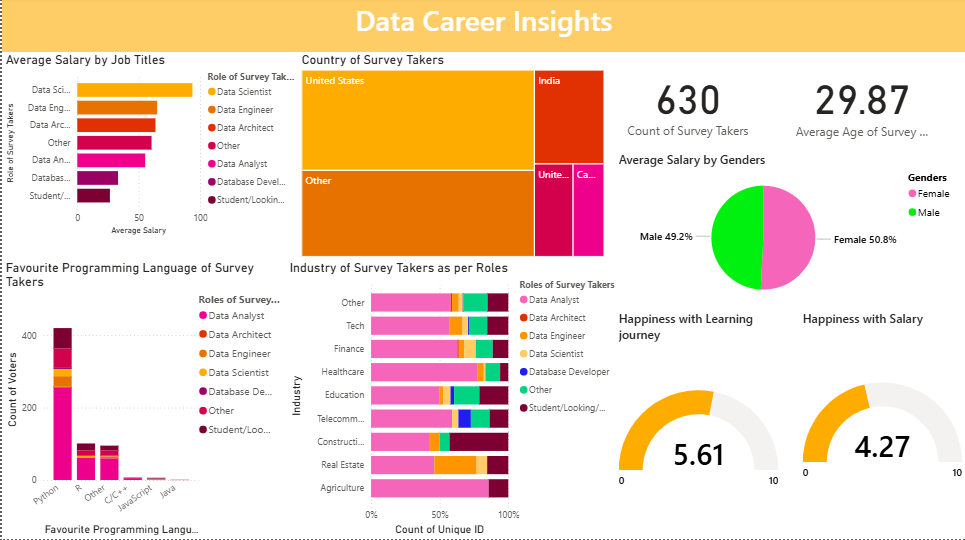

What the dashboard file says about the page in this screenshot:
{"tool":"powerbi","page":{"name":"Main Dashboard","canvas":[1280,720],"ordinal":0},"visuals":[{"type":"textbox","box":[0,0,1280.2,73.4],"z":0},{"type":"card","fields":{"Values":["Count(Data Professional Survey.Unique ID)"]},"box":[814.8,84,194.1,111.5],"z":1000},{"type":"card","fields":{"Values":["Avg(Data Professional Survey.Q10 - Current Age)"]},"box":[1046,84,194.1,112.9],"z":2000},{"type":"barChart","title":"Average Salary by Job Titles","fields":{"Category":["Data Professional Survey.Q1 - Which Title Best Fits your Current Role?.1"],"Y":["Avg(Data Professional Survey.Average Salary)"],"Series":["Data Professional Survey.Q1 - Which Title Best Fits your Current Role?.1"]},"box":[0,73.4,393.1,247.7],"z":3000},{"type":"treemap","title":"Country of Survey Takers","fields":{"Group":["Data Professional Survey.Q11 - Which Country do you live in?.1"],"Values":["CountNonNull(Data Professional Survey.Q11 - Which Country do you live in?.1)"]},"box":[393.6,72.9,411.5,276.6],"z":4000},{"type":"columnChart","title":"Favourite Programming Language of Survey Takers","fields":{"Category":["Data Professional Survey.Q5 - Favorite Programming Language.1"],"Y":["CountNonNull(Data Professional Survey.Unique ID)"],"Series":["Data Professional Survey.Q1 - Which Title Best Fits your Current Role?.1"]},"box":[0,349.6,377.1,370.2],"z":5000},{"type":"hundredPercentStackedBarChart","title":"Industry of Survey Takers as per Roles","fields":{"Category":["Data Professional Survey.Q4 - What Industry do you work in?.1"],"Y":["CountNonNull(Data Professional Survey.Unique ID)"],"Series":["Data Professional Survey.Q1 - Which Title Best Fits your Current Role?.1"]},"box":[377.1,349.6,447.3,370.2],"z":6000},{"type":"gauge","title":"Happiness with Salary","fields":{"Y":["Avg(Data Professional Survey.Q6 - How Happy are you in your Current Position with the following? (Salary))"],"MinValue":["Min(Data Professional Survey.Q6 - How Happy are you in your Current Position with the following? (Salary))"],"MaxValue":["Max(Data Professional Survey.Q6 - How Happy are you in your Current Position with the following? (Salary))"]},"box":[1058.4,415.7,221.6,304.2],"z":7000},{"type":"gauge","title":"Happiness with Learning journey","fields":{"Y":["Avg(Data Professional Survey.Q6 - How Happy are you in your Current Position with the following? (Learning New Things))"],"MinValue":["Min(Data Professional Survey.Q6 - How Happy are you in your Current Position with the following? (Learning New Things))"],"MaxValue":["Max(Data Professional Survey.Q6 - How Happy are you in your Current Position with the following? (Coworkers))"]},"box":[814.8,415.7,222,304.2],"z":8000},{"type":"pieChart","fields":{"Category":["Data Professional Survey.Q9 - Male/Female?"],"Y":["Avg(Data Professional Survey.Average Salary)"]},"box":[814.8,205.1,465.2,209.2],"z":9000}]}

Visuals, with their boxes in screenshot pixels (x1, y1, x2, y2), scaled from the page's 1280x720 canvas onto the 965x540 screenshot:
textbox: crop(0, 0, 964, 55)
card - Count(Data Professional Survey.Unique ID): crop(614, 63, 761, 147)
card - Avg(Data Professional Survey.Q10 - Current Age): crop(789, 63, 935, 148)
"Average Salary by Job Titles" barChart: crop(0, 55, 296, 241)
"Country of Survey Takers" treemap: crop(297, 55, 607, 262)
"Favourite Programming Language of Survey Takers" columnChart: crop(0, 262, 284, 539)
"Industry of Survey Takers as per Roles" hundredPercentStackedBarChart: crop(284, 262, 622, 539)
"Happiness with Salary" gauge: crop(798, 312, 964, 539)
"Happiness with Learning journey" gauge: crop(614, 312, 782, 539)
pieChart - Data Professional Survey.Q9 - Male/Female? x Avg(Data Professional Survey.Average Salary): crop(614, 154, 964, 311)
